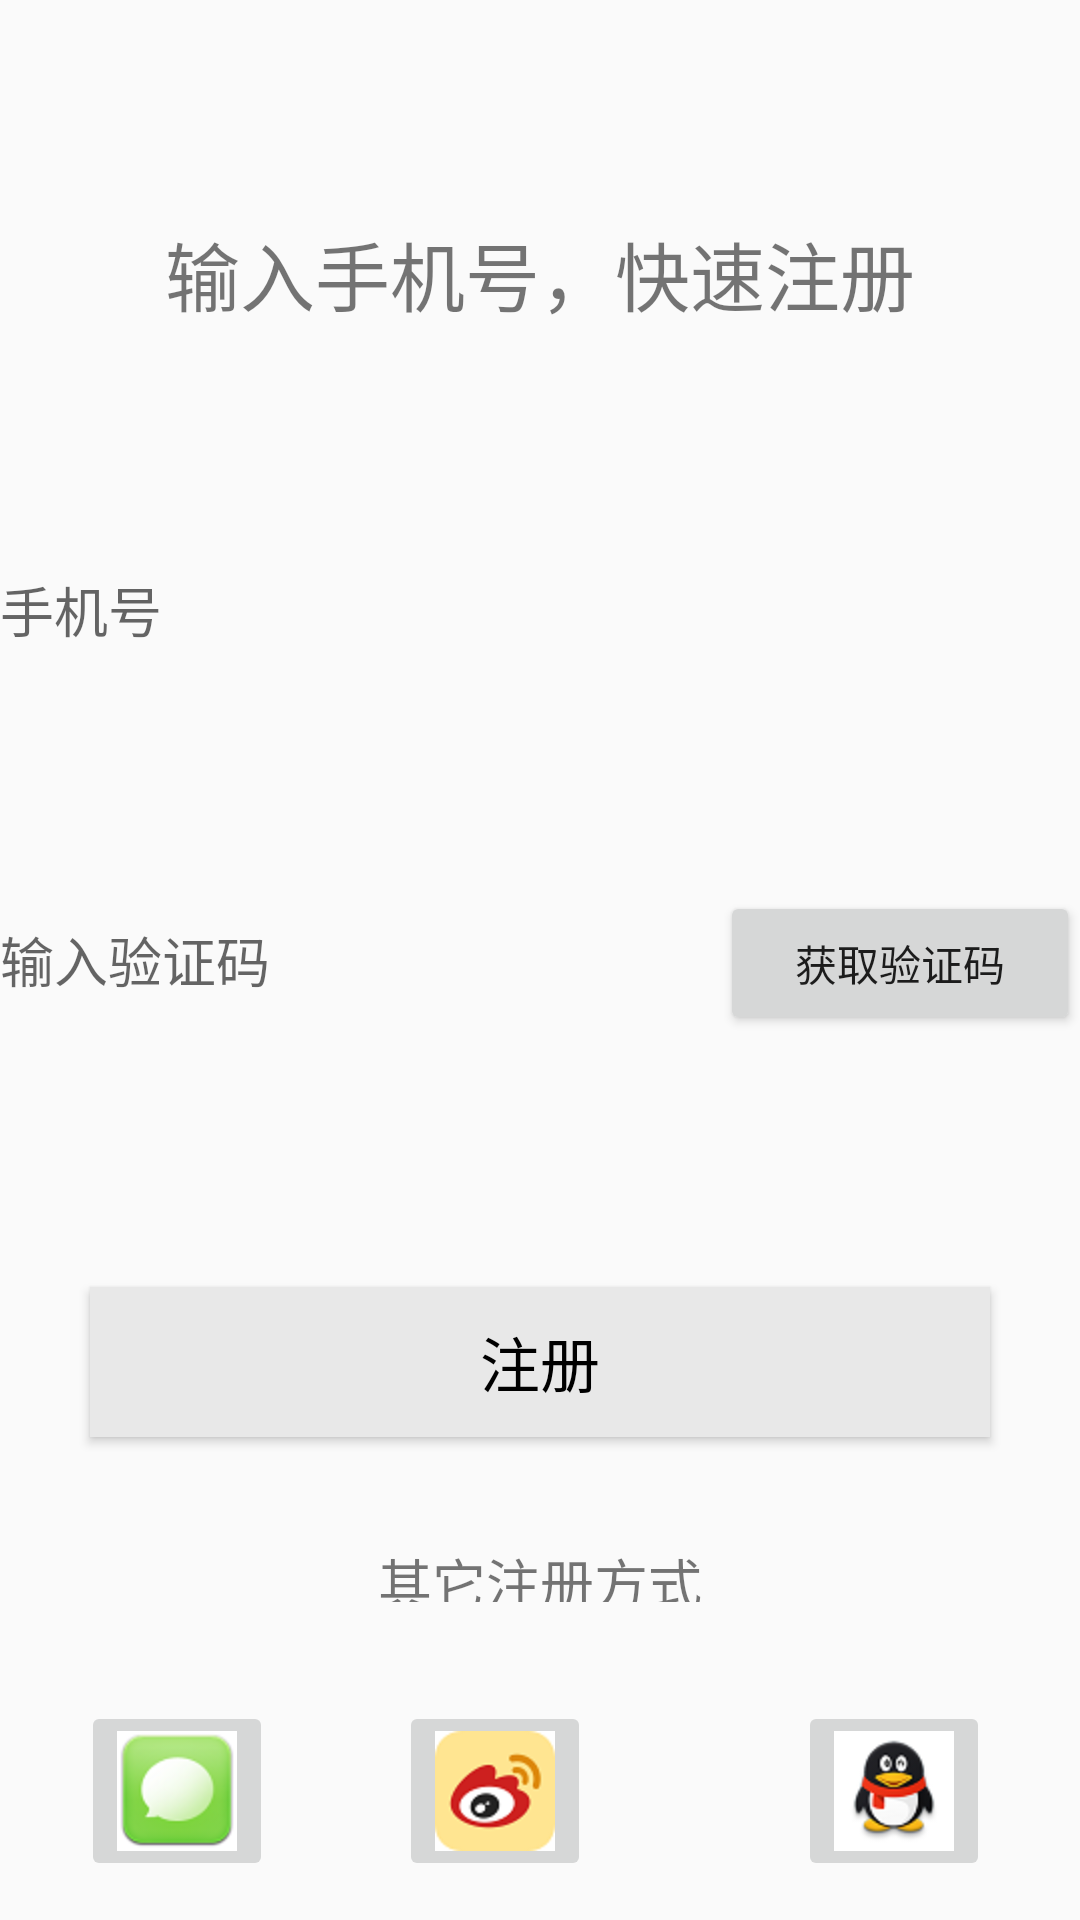

Icon click points for this 1080×1920 phone screenshot, format point (x, y):
duanxin: point (177, 1791)
